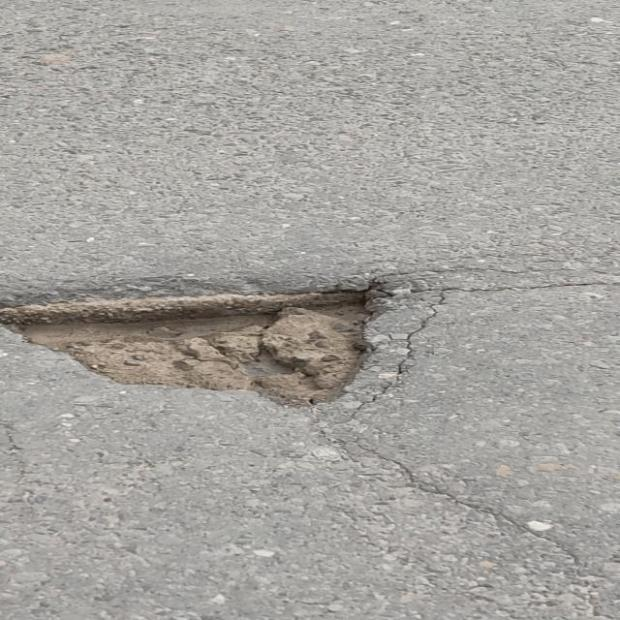lubang: (0, 275, 431, 405)
